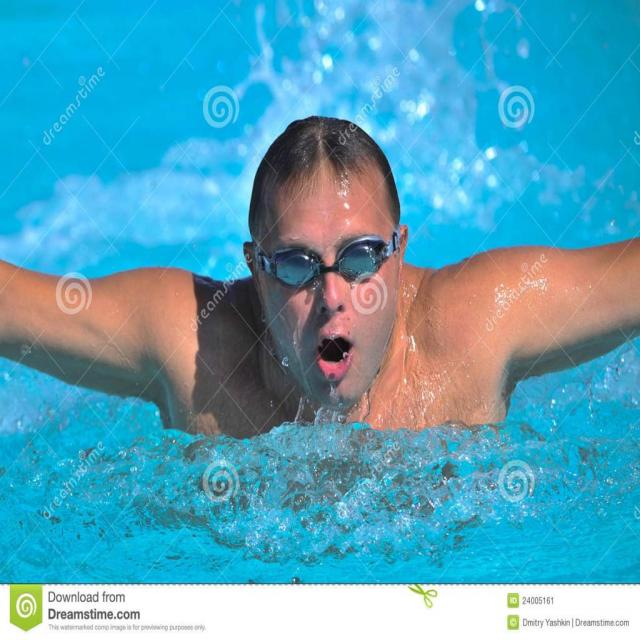nomask: (264, 211, 400, 412)
